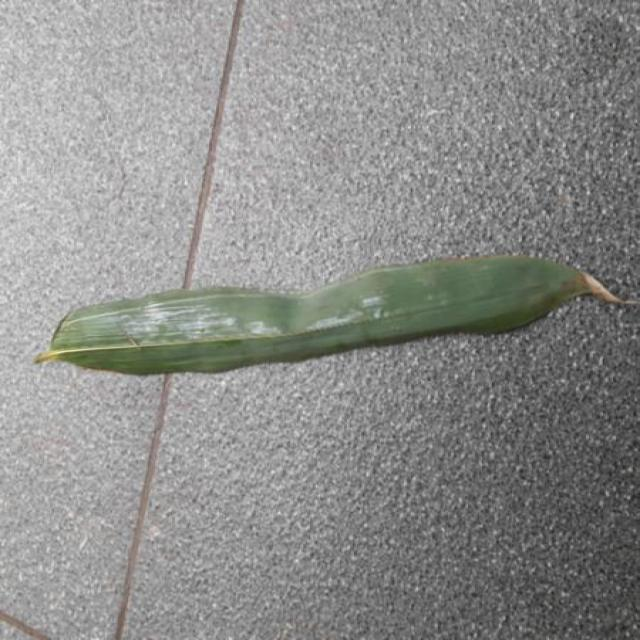defectedBamboo: (35, 256, 633, 375)
